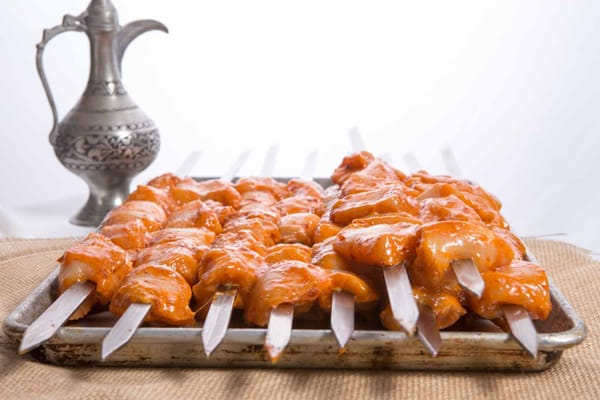soup: (34, 0, 170, 226)
